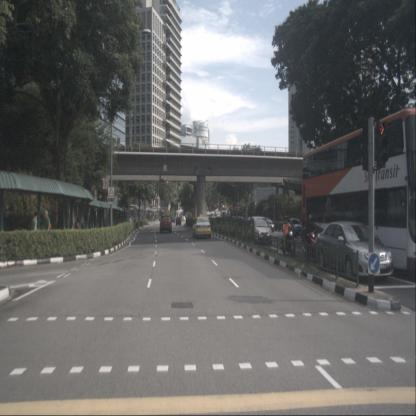human-pedestrian-adult: (31, 212, 38, 251), (44, 210, 51, 248), (75, 218, 80, 240)
vehicle-bus-rigid: (301, 107, 416, 278), (220, 206, 227, 218)
vehicle-car: (315, 221, 394, 279), (248, 216, 272, 246), (192, 216, 211, 239), (286, 218, 304, 238), (260, 217, 274, 233), (160, 215, 172, 233), (176, 216, 181, 226), (170, 216, 175, 223)
vehicle-motorcycle: (302, 214, 320, 262), (281, 215, 295, 257)
